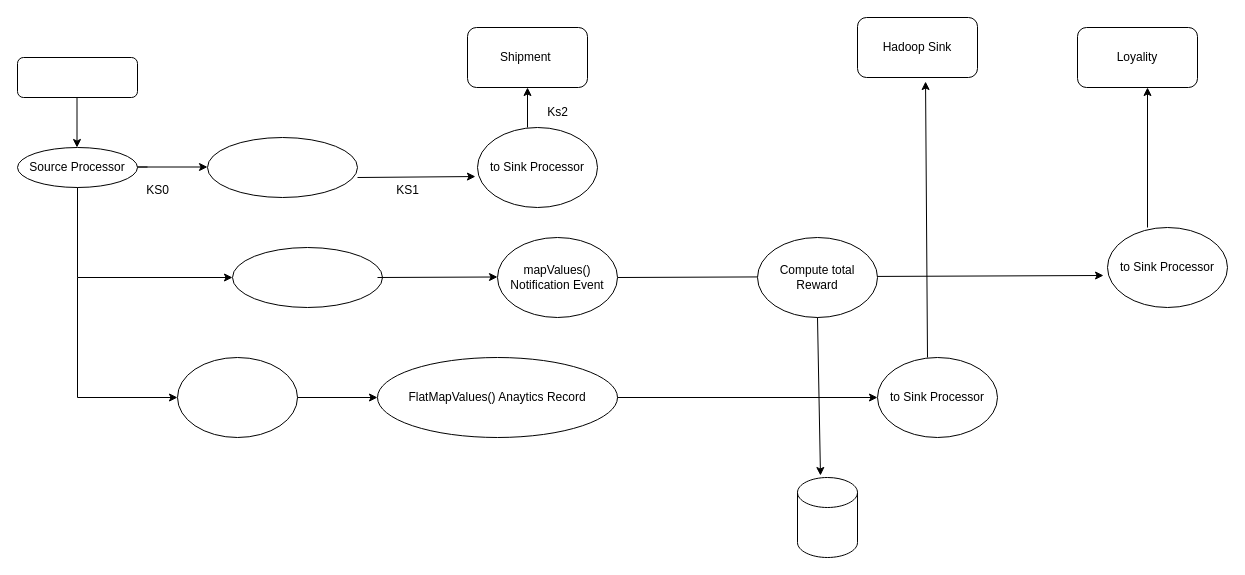
Some shapes in this 1245 by 575 pixel diagram are drawn without their labels. Here are the shapes that lost their labels. From the top down, the centre of each, then its label:
At (x=77, y=77): "POS".
At (x=282, y=167): "Filter () Home Delivery".
At (x=307, y=277): "fileter() Prme".
At (x=237, y=397): "mapValues() Masking".
At (x=827, y=517): "DB".
